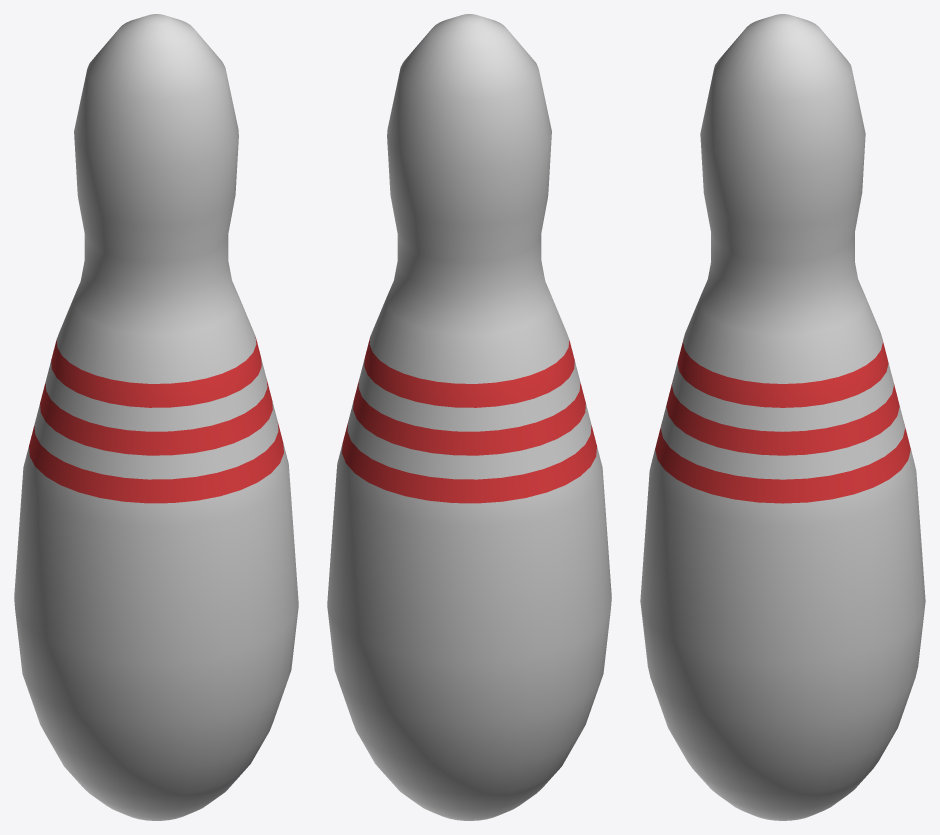
Rendered from stump.gltf.
3 views of the same model, side by side, from view 1: azimuth 30°, elevation 25°; view 2: azimuth 150°, elevation 25°; view 3: azimuth 270°, elevation 25° (orthographic).
Parts seen in each view (by area): view 1: Cylinder; view 2: Cylinder; view 3: Cylinder.
Boxes of the visible parts, x1,y1,x2,y2 form: Cylinder: (14,14,298,820); Cylinder: (327,14,611,820); Cylinder: (640,14,925,820).
Size of the model in its own units: 0.596 by 1.83 by 0.596.
